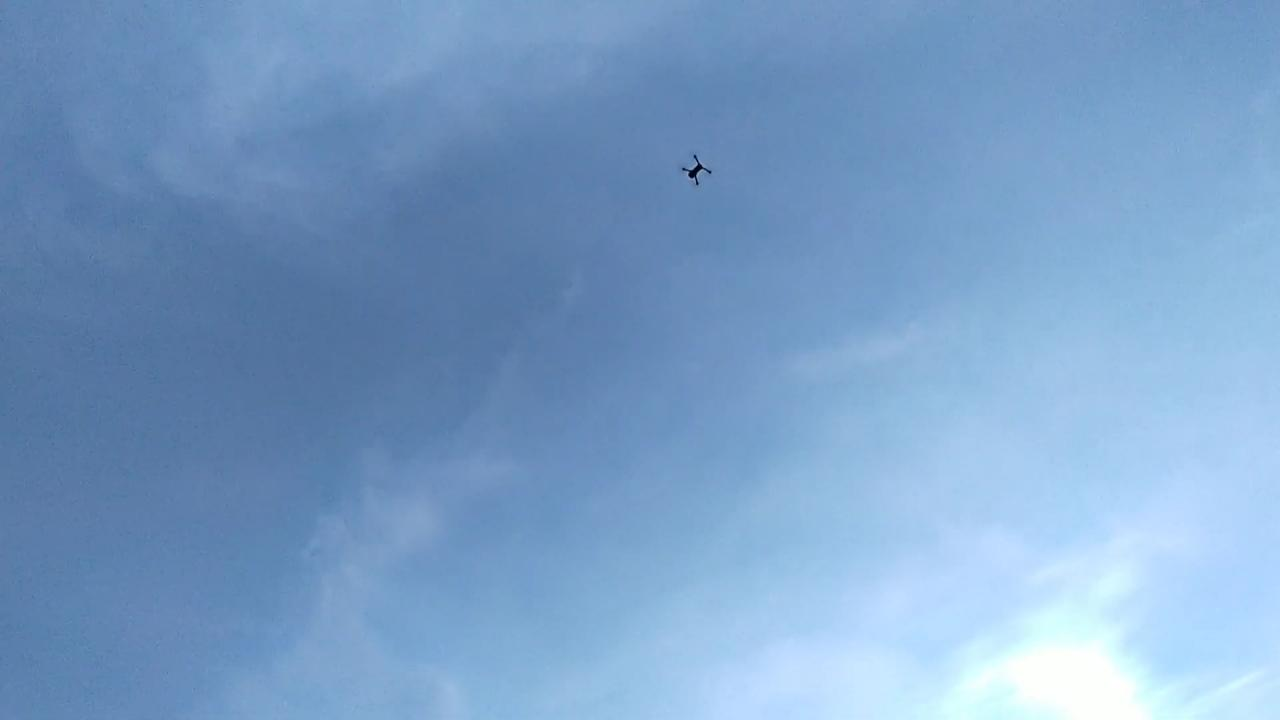Drone: (666, 144, 726, 198)
